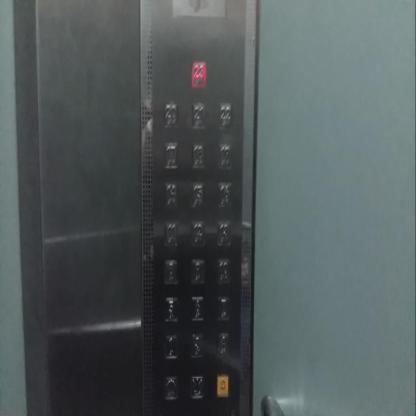1: (164, 335, 178, 359)
10: (216, 259, 230, 284)
11: (165, 221, 178, 245)
12: (190, 220, 205, 246)
13: (216, 221, 231, 245)
14: (164, 182, 177, 209)
15: (191, 181, 204, 207)
16: (218, 183, 232, 209)
17: (164, 142, 179, 169)
18: (191, 141, 205, 168)
19: (217, 142, 232, 170)
20: (163, 100, 178, 129)
21: (191, 102, 206, 130)
22: (218, 100, 233, 131)
23: (191, 61, 206, 88)
4: (217, 332, 230, 358)
5: (164, 298, 178, 324)
6: (191, 297, 204, 322)
7: (216, 296, 230, 323)
8: (164, 259, 178, 284)
9: (190, 260, 206, 286)
alarm: (216, 374, 229, 398)
blur: (192, 332, 205, 359)
close: (190, 376, 203, 400)
open: (164, 376, 178, 400)
